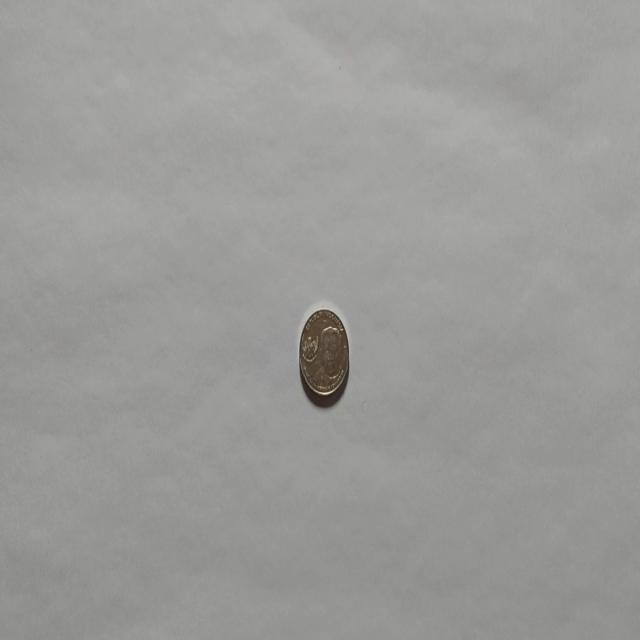seratus rupiah: (298, 306, 350, 401)
